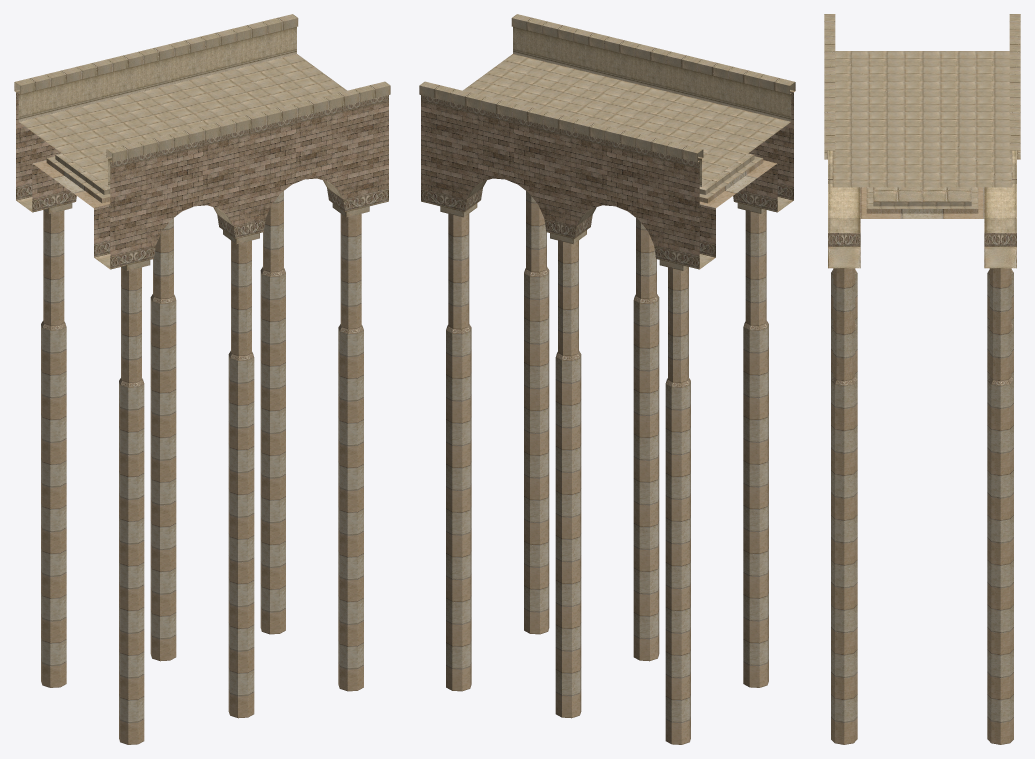
Rendered from thm_nboo_imprv_elevated_walkway_s01_l0.fbx.
The picture shows the model from 3 angles, left to right: view 1: azimuth 30°, elevation 25°; view 2: azimuth 150°, elevation 25°; view 3: azimuth 270°, elevation 25°; orthographic projection.
Visible parts, largest first — view 1: mesh_node; view 2: mesh_node; view 3: mesh_node.
Part boxes in pixels (left/top/right/bottom): mesh_node: left=14, top=14, right=390, bottom=744; mesh_node: left=419, top=14, right=795, bottom=744; mesh_node: left=824, top=14, right=1020, bottom=744.
Bounding box in the file's own units: 8.88 × 18.3 × 5.39.
